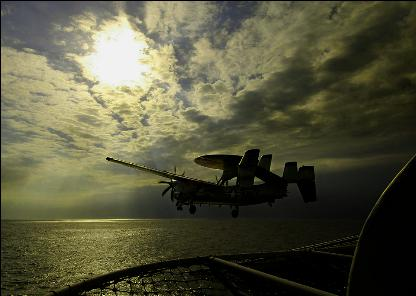C5: (104, 148, 315, 216)
